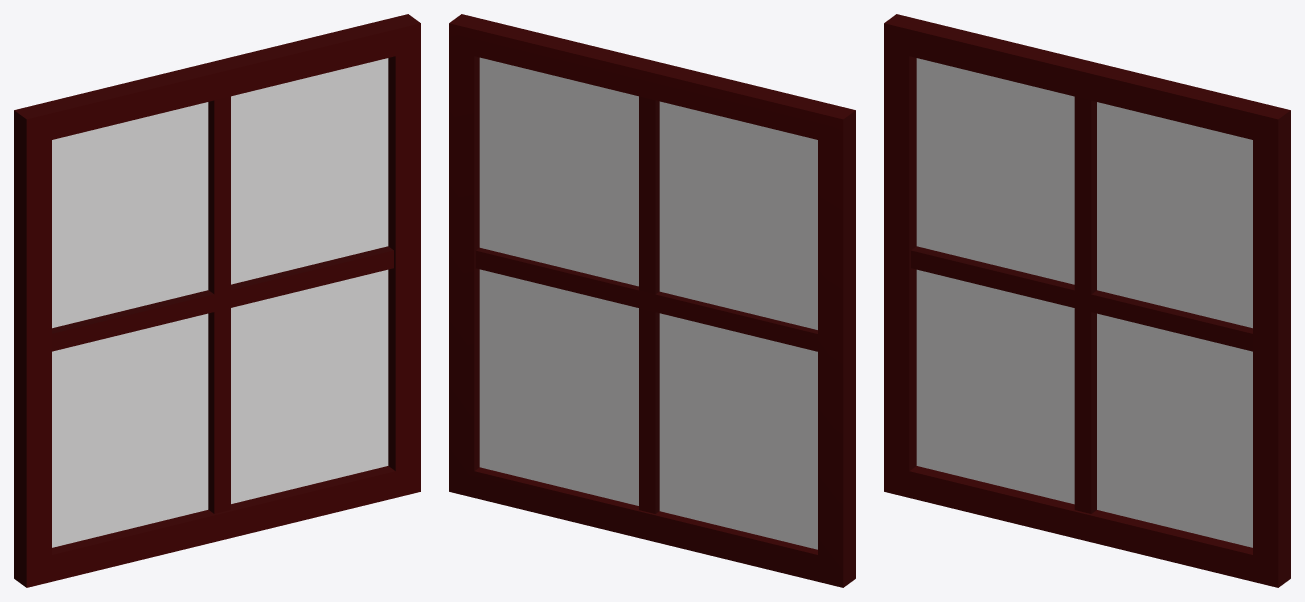
The model's file is Window.glb.
The picture shows the model from 3 angles, left to right: view 1: azimuth 30°, elevation 25°; view 2: azimuth 150°, elevation 25°; view 3: azimuth 330°, elevation 25°; orthographic projection.
Parts seen in each view (by area): view 1: Window; view 2: Window; view 3: Window.
Boxes of the visible parts, left/top/right/bottom form: Window: left=14, top=14, right=420, bottom=587; Window: left=449, top=14, right=855, bottom=587; Window: left=884, top=14, right=1290, bottom=587.
Bounding box in the file's own units: 6.38 × 7.25 × 0.3538.
